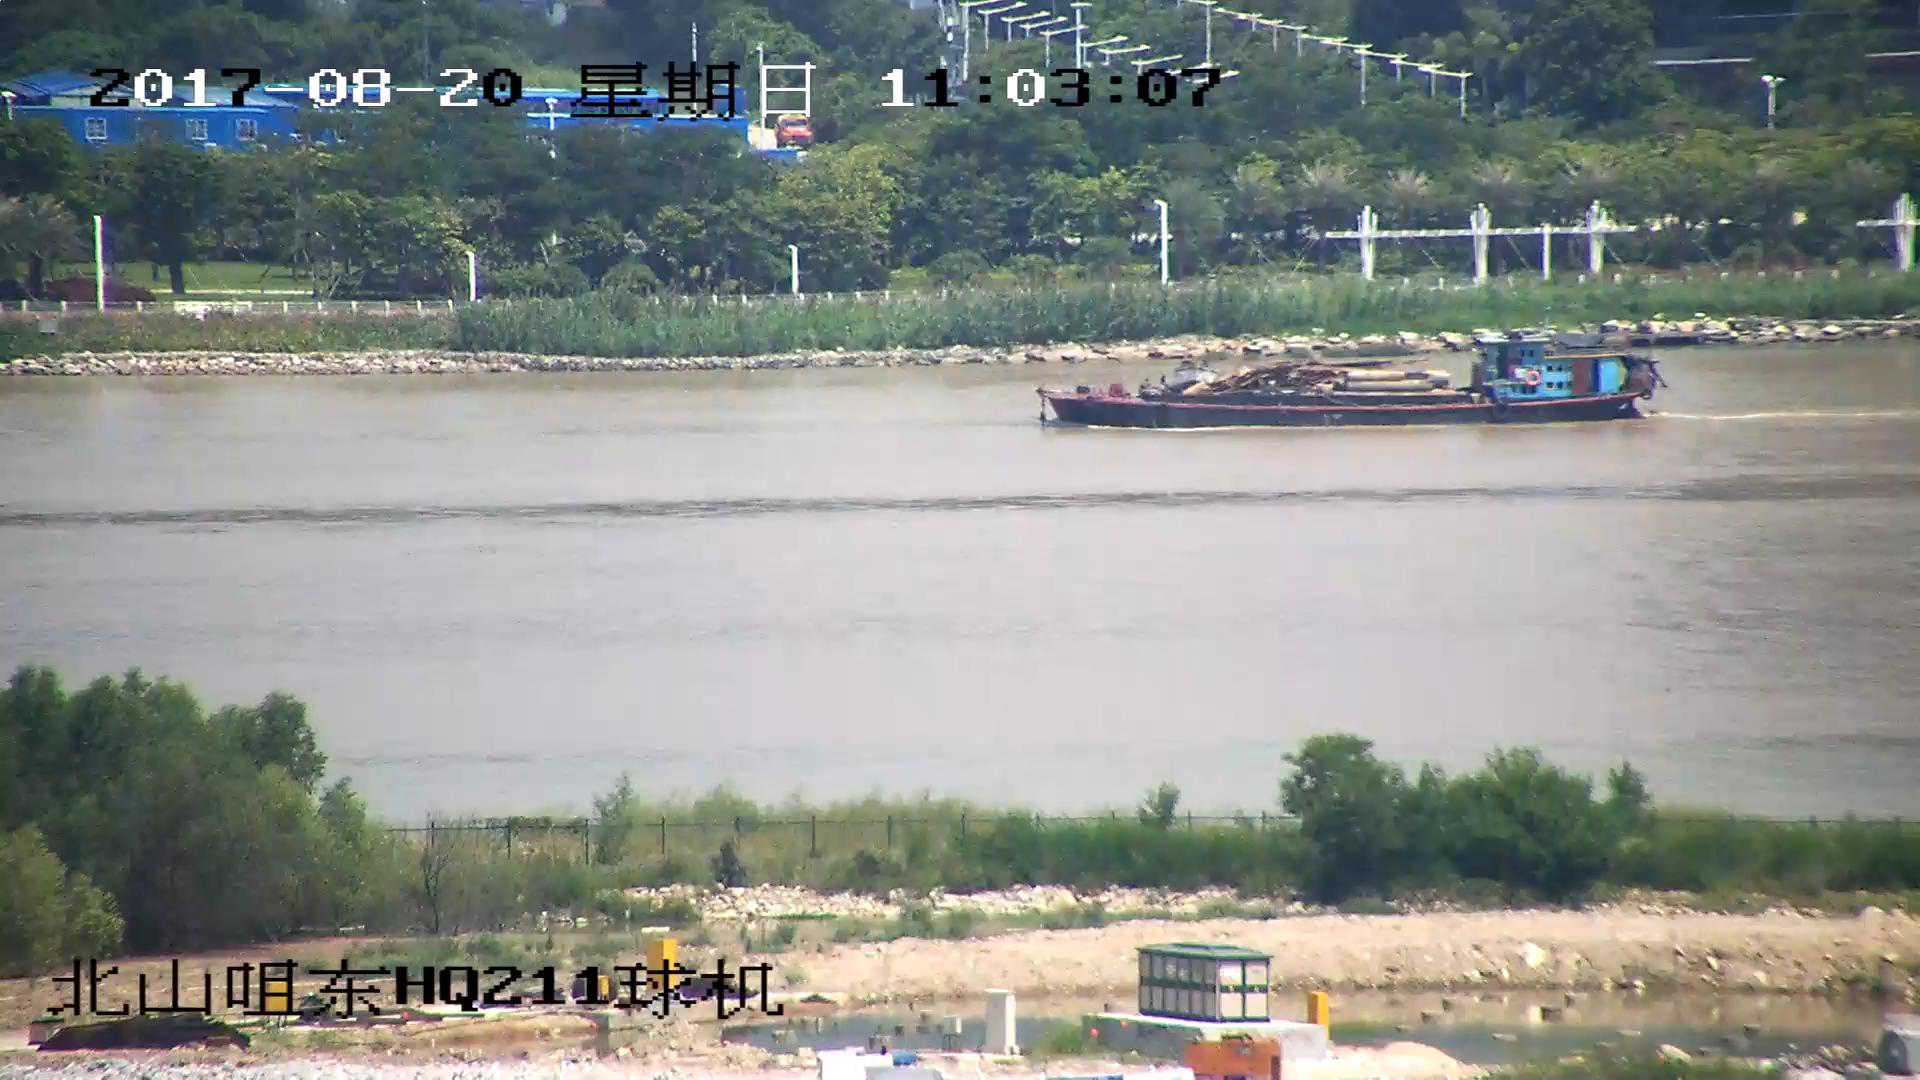Ship: (1043, 339, 1671, 431)
